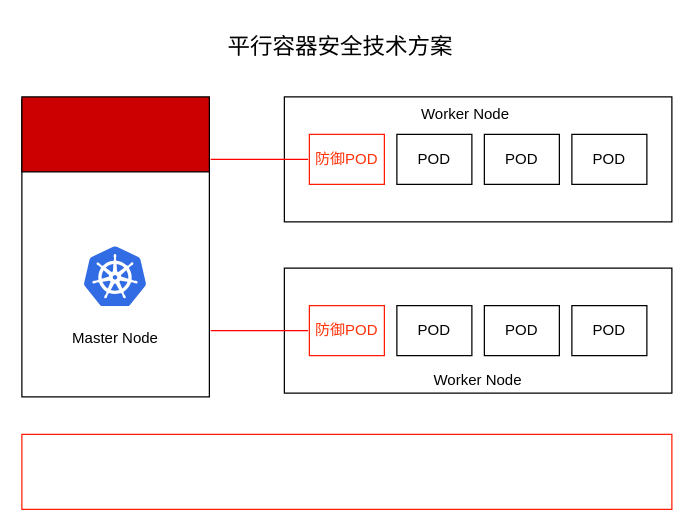
Image size: 694x531. Some labels were removed from this diagram. The shapes that lost their labels are listed below. From the top down, each one's centre as x and y in pixels, then its label:
At pixel 115 134: "容器安全防护平台 管理中心".
At pixel 346 471: "物理机/虚拟机/私有云主机/公有云主机".
